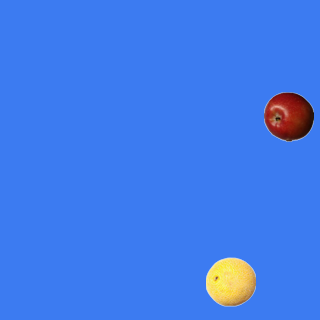Apple Braeburn: (263, 91, 313, 141)
Cantaloupe 1: (205, 256, 255, 306)
